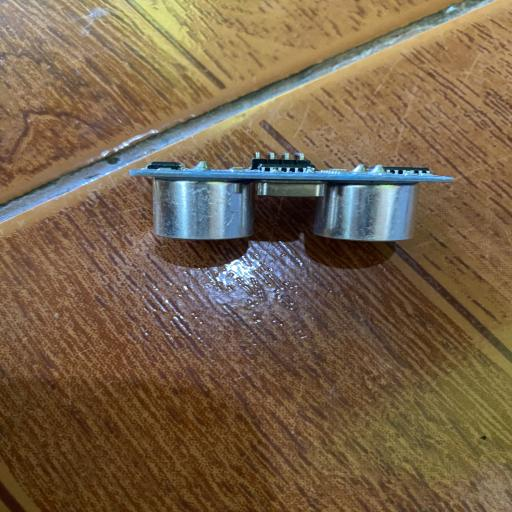Ultrasonic Sensor: (126, 150, 456, 244)
